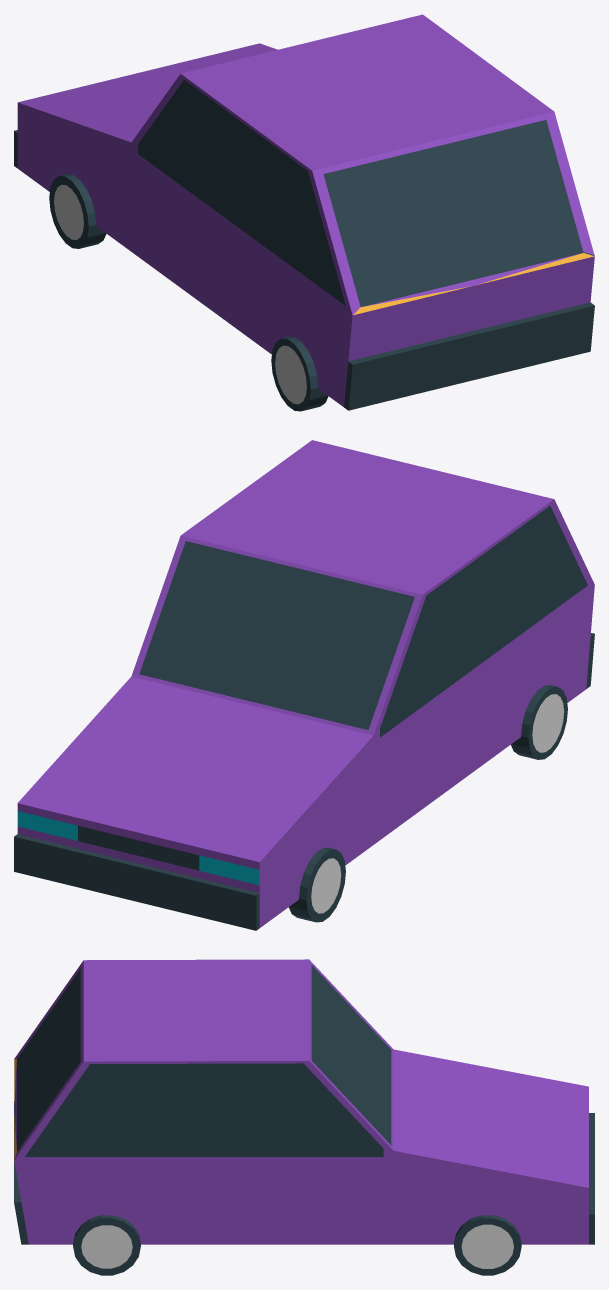
Rendered from CarPurple1x1.fbx.
3 views of the same model, one above another, from view 1: azimuth 30°, elevation 25°; view 2: azimuth 150°, elevation 25°; view 3: azimuth 270°, elevation 25° (orthographic). The views are drawn at different scales.
Visible parts, largest first — view 1: CAR_03_2_3; view 2: CAR_03_2_3; view 3: CAR_03_2_3.
Boxes of the visible parts, x1,y1,x2,y2 form: CAR_03_2_3: (14, 14, 594, 411); CAR_03_2_3: (14, 440, 594, 930); CAR_03_2_3: (14, 959, 594, 1275).
Bounding box in the file's own units: 0.4304 × 0.3941 × 0.9813.
1 material, 1 textured.
